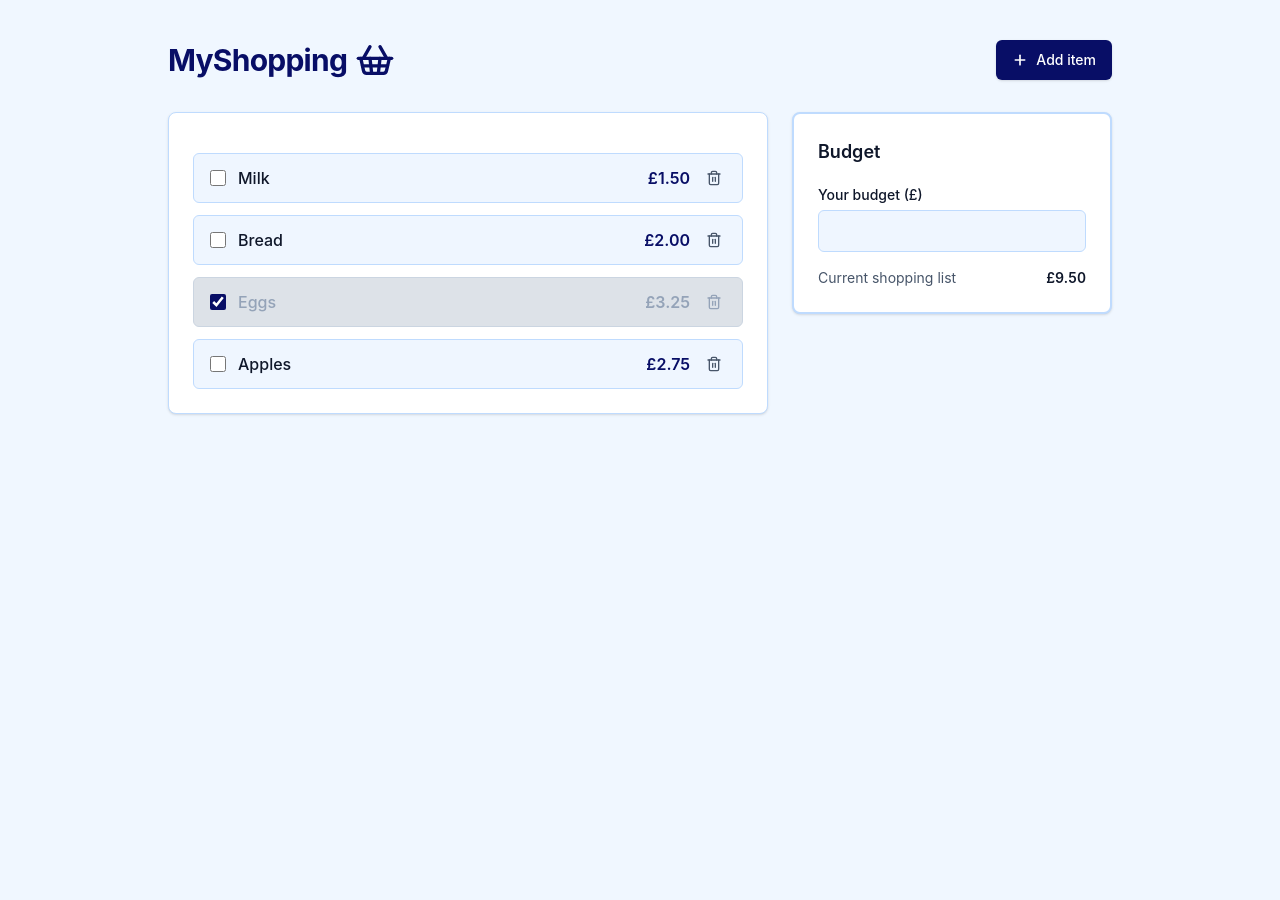
Test case: App success flows › adds an item to the list
This screenshot has width=1280, height=900.
Click the button "Add item": {"x": 1054, "y": 60} [996,40,1112,80]
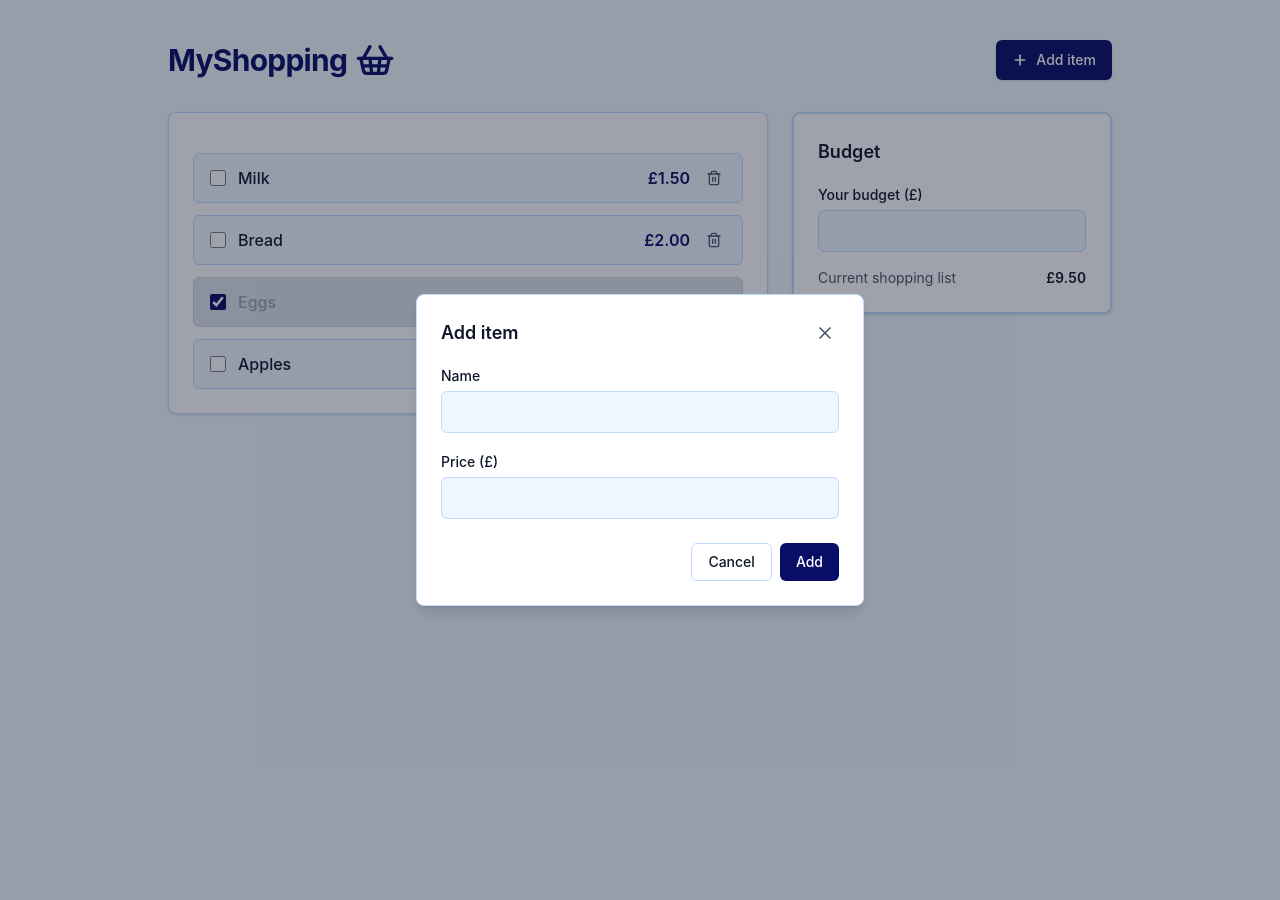
In the field labelled "Name": {"x": 640, "y": 412} [441,391,839,433], type "Coffee"
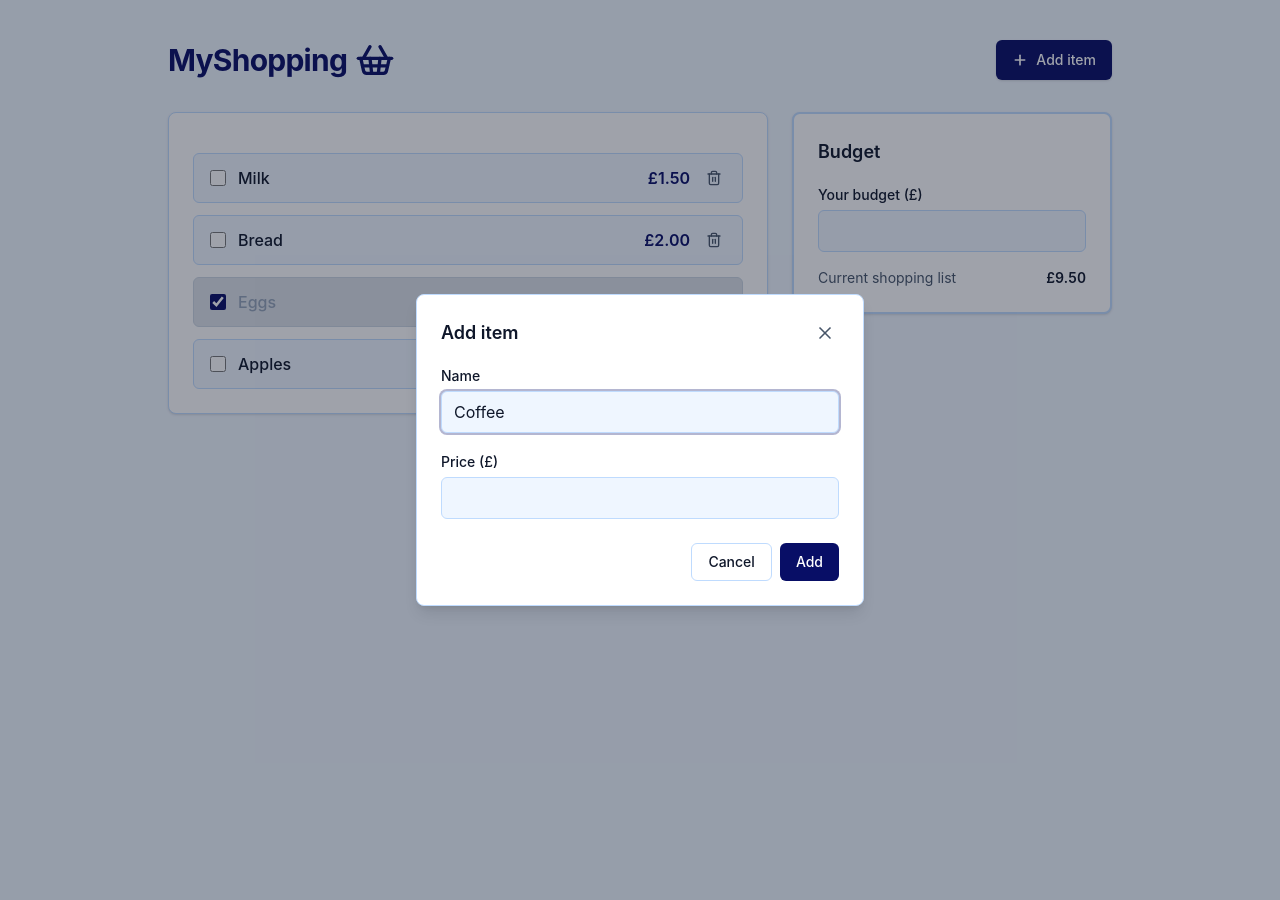
In the number field labelled "Price (£)": {"x": 640, "y": 498} [441,477,839,519], type "5.50"
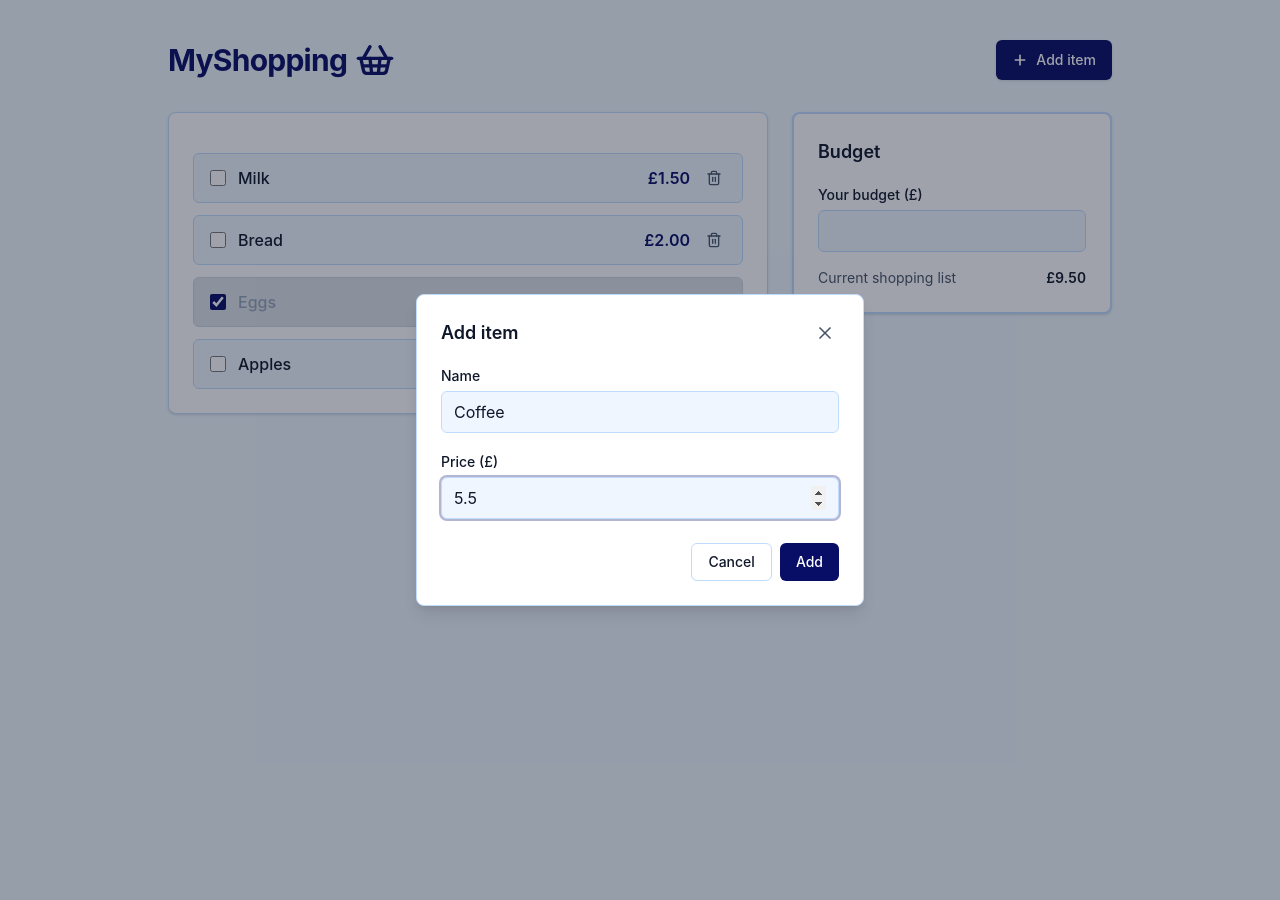
Click the button "Add": {"x": 809, "y": 562} [780,543,839,581]
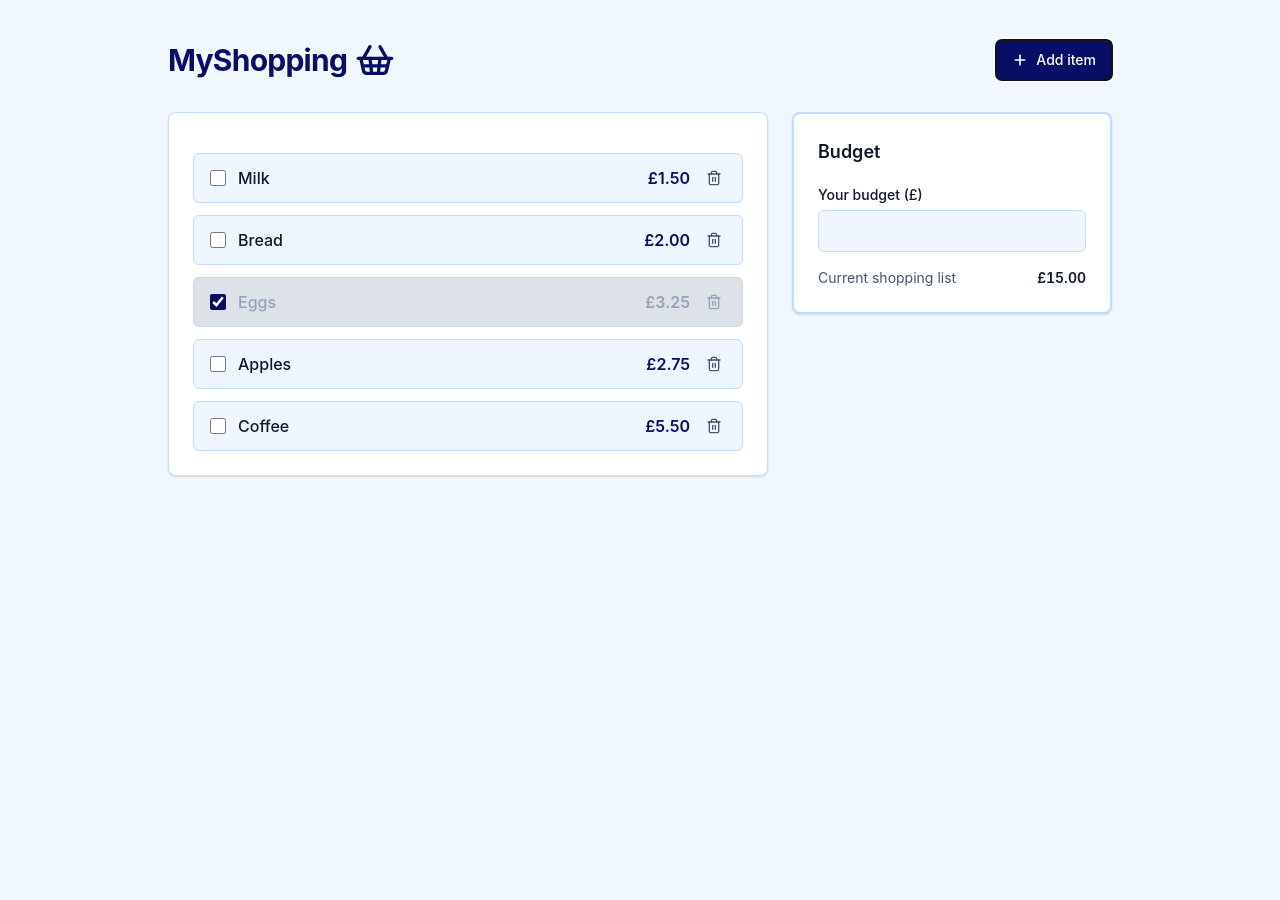
Check: the text "Coffee" is shown, box [238,414,289,438]
Check: the text "£5.50" is shown, box [645,414,690,438]
